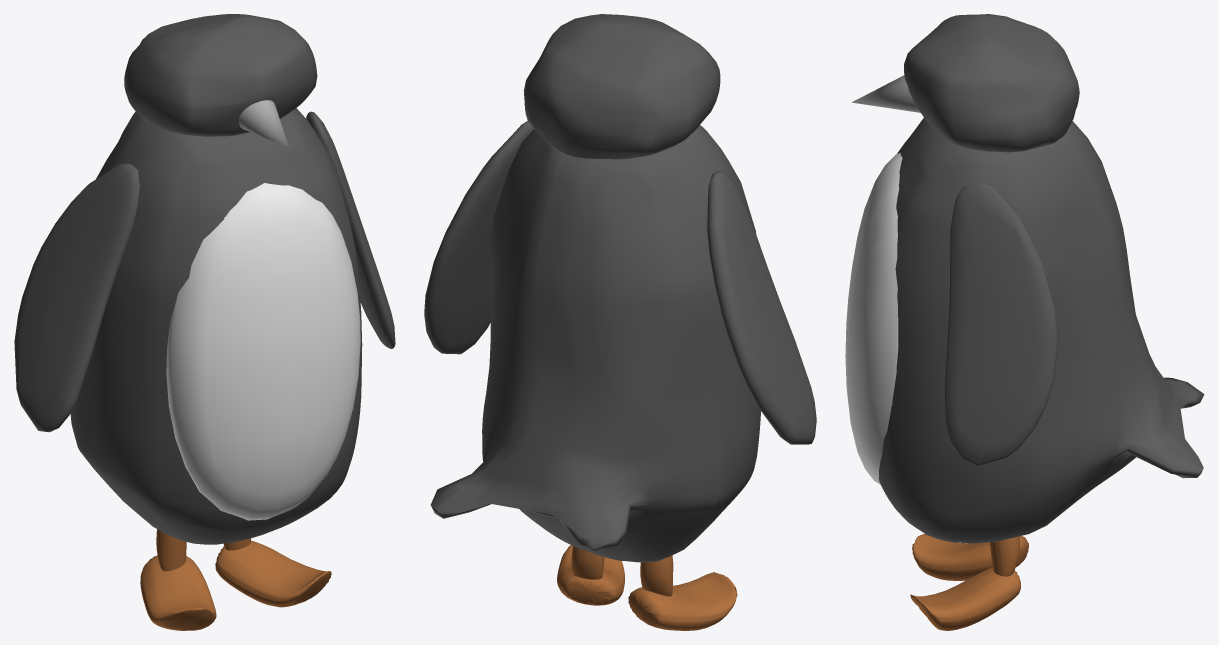
Rendered from PEGUIN.fbx.
3 renders of one model, left to right at view 1: azimuth 30°, elevation 25°; view 2: azimuth 150°, elevation 25°; view 3: azimuth 270°, elevation 25°, orthographic. The views are drawn at different scales.
Visible parts, largest first — view 1: polySurface5, polySurface8, polySurface9, polySurface7, pasted__polySurface15, pasted__polySurface13, polySurface6, pCone2, pasted__polySurface12; view 2: polySurface8, polySurface7, polySurface9, polySurface6, pasted__polySurface13, pasted__polySurface15, pasted__polySurface12, pasted__polySurface14; view 3: polySurface8, polySurface6, polySurface7, polySurface5, pasted__polySurface15, pasted__polySurface13, pCone2, pasted__polySurface14.
Boxes of the visible parts, box(x1,y1,x2,y2) form: polySurface5: box(166, 183, 360, 520); polySurface8: box(70, 108, 362, 544); polySurface9: box(14, 163, 139, 432); polySurface7: box(124, 14, 317, 136); pasted__polySurface15: box(215, 540, 331, 607); pasted__polySurface13: box(140, 555, 216, 630); polySurface6: box(306, 111, 395, 348); pCone2: box(238, 100, 288, 146); pasted__polySurface12: box(156, 529, 186, 571); polySurface8: box(430, 125, 760, 562); polySurface7: box(524, 14, 720, 159); polySurface9: box(707, 170, 816, 444); polySurface6: box(424, 121, 533, 354); pasted__polySurface13: box(628, 572, 737, 630); pasted__polySurface15: box(557, 545, 624, 605); pasted__polySurface12: box(640, 555, 673, 596); pasted__polySurface14: box(571, 546, 604, 579); polySurface8: box(878, 118, 1204, 543); polySurface6: box(945, 181, 1058, 466); polySurface7: box(904, 14, 1079, 152); polySurface5: box(845, 152, 902, 484); pasted__polySurface15: box(910, 567, 1020, 630); pasted__polySurface13: box(912, 534, 1028, 580); pCone2: box(851, 75, 920, 112); pasted__polySurface14: box(989, 536, 1019, 576).
Size of the model in its own units: 1.25 by 1.94 by 1.1.
